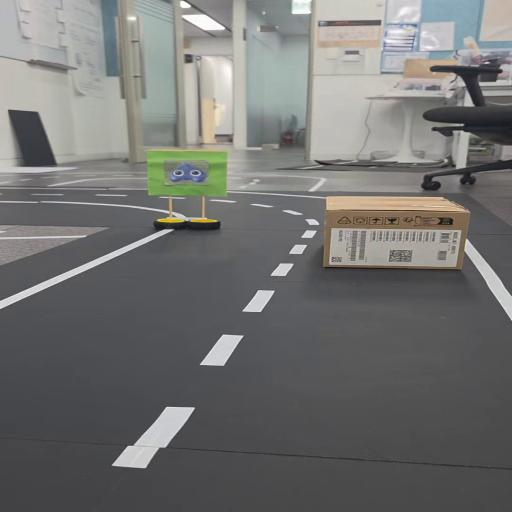Box: (322, 194, 467, 275)
Sign_B: (147, 145, 233, 237)
